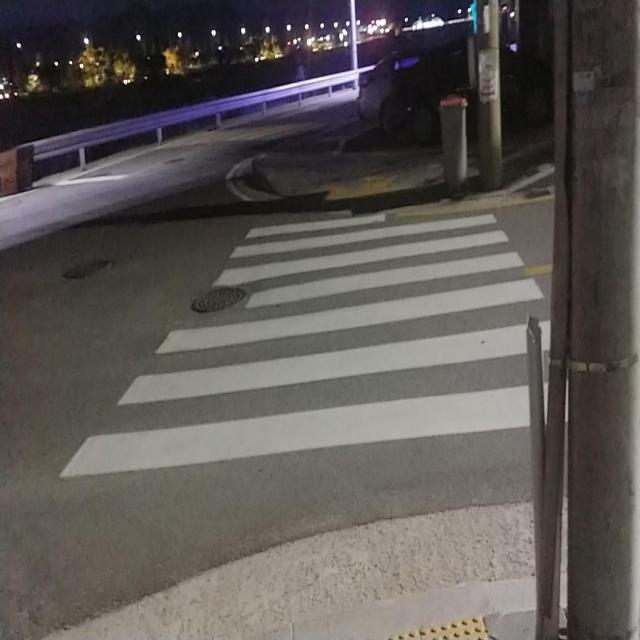횡단보도: (55, 210, 574, 482)
